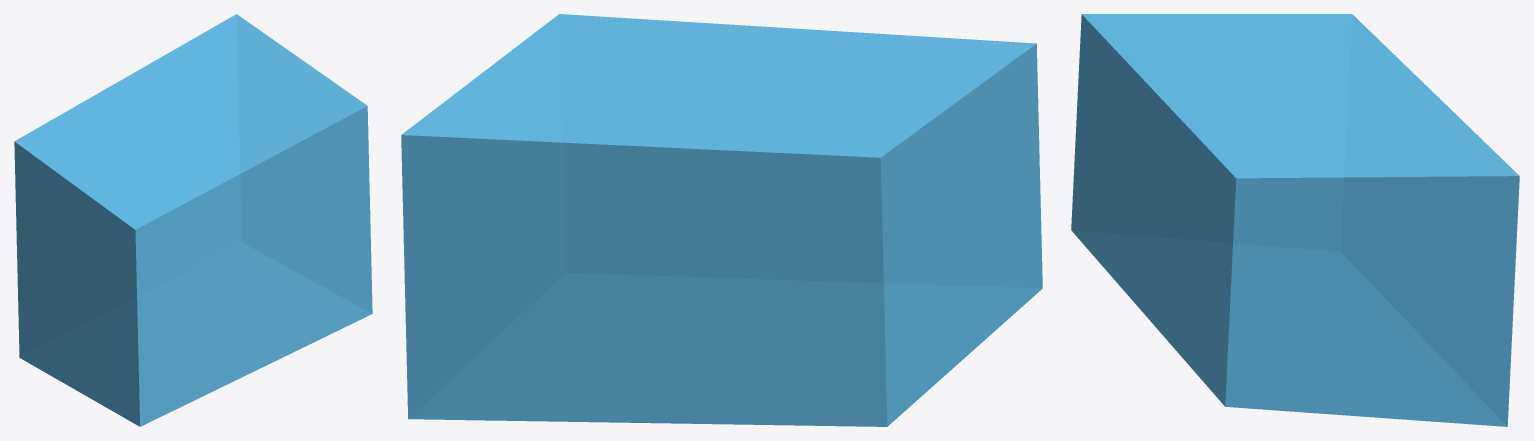
Rendered from Event_421127236_HErechit_33.fbx.
The picture shows the model from 3 angles, left to right: view 1: azimuth 30°, elevation 25°; view 2: azimuth 150°, elevation 25°; view 3: azimuth 270°, elevation 25°; orthographic projection. The views are drawn at different scales.
Visible parts, largest first — view 1: Model; view 2: Model; view 3: Model.
Part boxes in pixels (left/top/right/bottom): Model: left=14, top=14, right=372, bottom=426; Model: left=401, top=14, right=1042, bottom=426; Model: left=1071, top=14, right=1519, bottom=426.
Size of the model in its own units: 0.6254 by 0.4453 by 0.7215.
